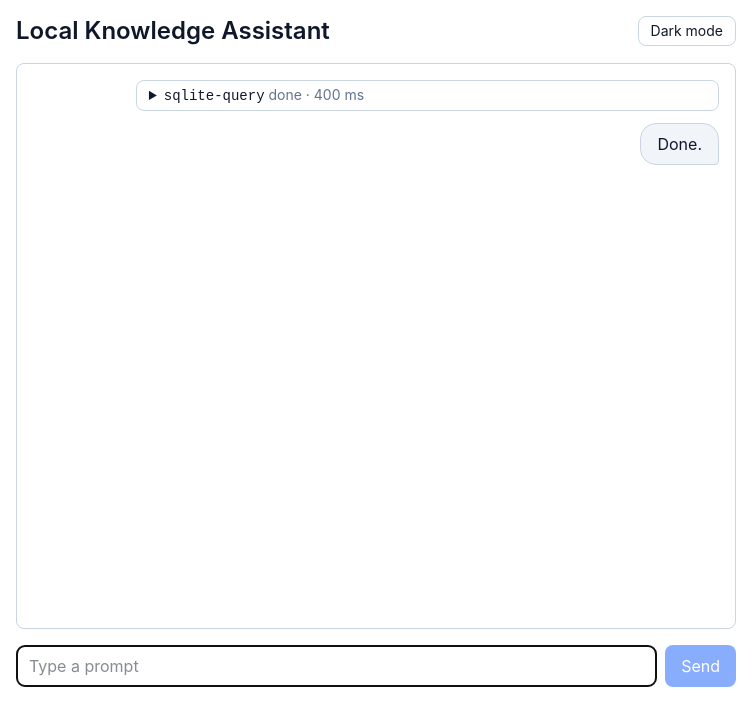
it: App › shows each tool call as a collapsed card that expands to its arguments and result
This screenshot has width=753, height=704.
Expected: the element named "Tool call sqlite-query" shows "done · 400 ms", [136,80,719,111]
Expected: the text "one row" is not shown
Click the text "sqlite-query".
click(214, 96)  # box [164,88,264,104]
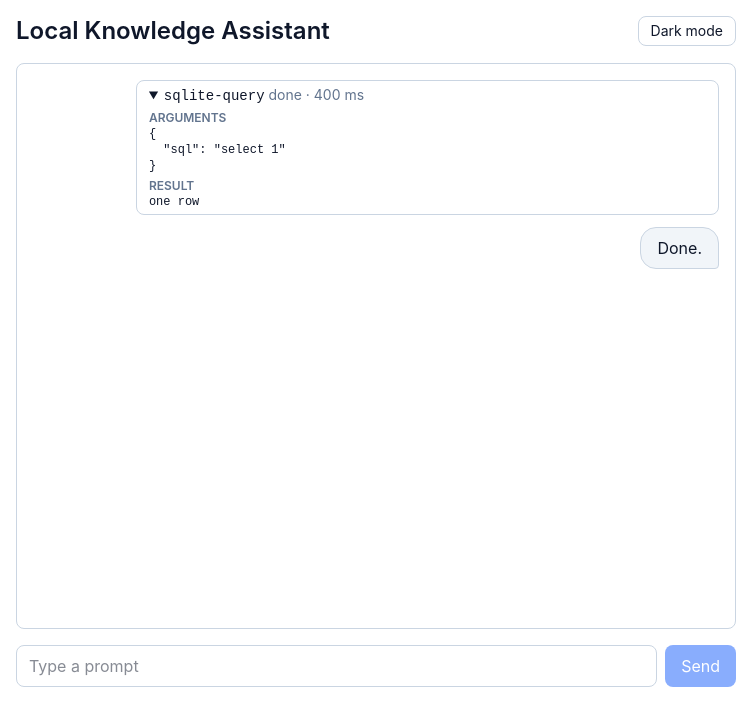
Now the text "one row" is shown, box [149,195,199,209]
